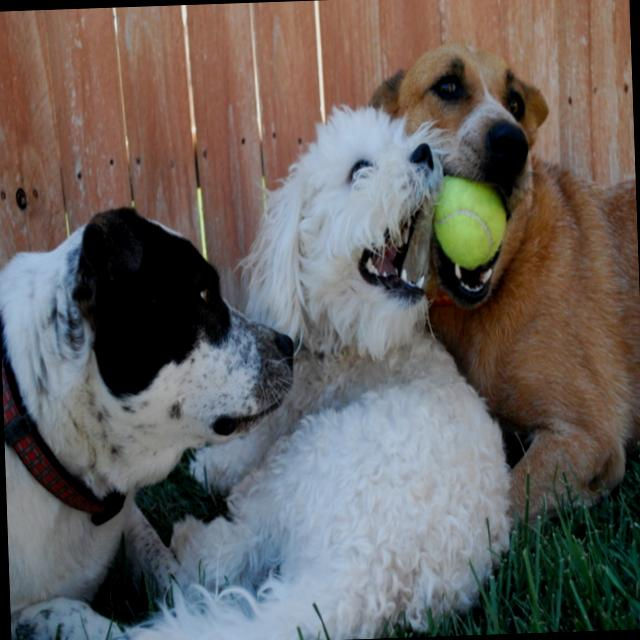Tennis Ball: (432, 172, 509, 269)
